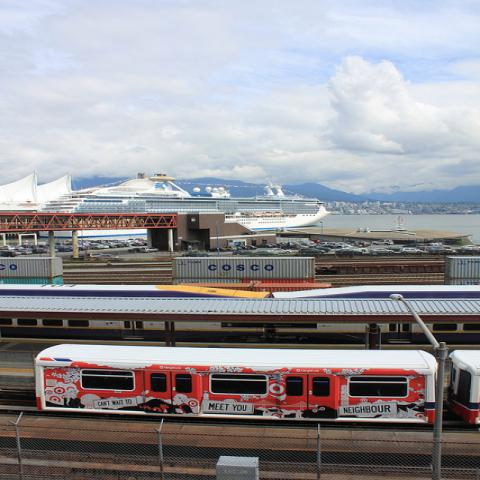car: (84, 238, 479, 260), (298, 248, 325, 255), (369, 248, 395, 255), (334, 248, 361, 254), (372, 239, 394, 246), (267, 248, 292, 254), (399, 248, 423, 253), (346, 247, 368, 252), (254, 251, 278, 255), (255, 244, 274, 248), (335, 242, 347, 248), (318, 242, 336, 246), (245, 245, 258, 250), (321, 244, 335, 248)
